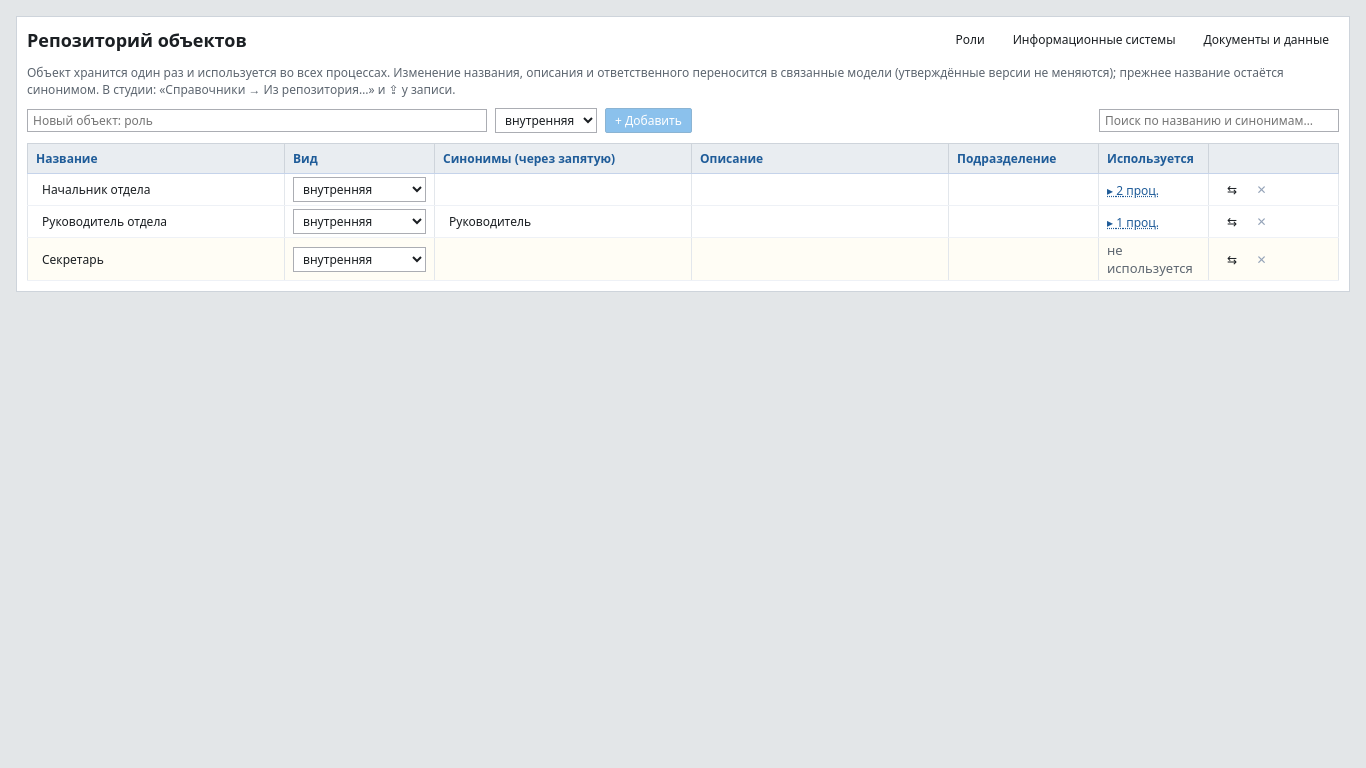
Test: репозиторий: слияние и удаление через диалог › слияние: окно со списком других объектов и пояснением, подтверждение недоступно без выбора
Check: the 1st field showing "Начальник отдела" is shown, box [36,178,276,201]
What coordinates should you click on to do the following:
click the 1st button titled "Объединить с другим объектом (дубли)"
I would click on:
 (1232, 190)
Its box is [1217,177,1247,202].
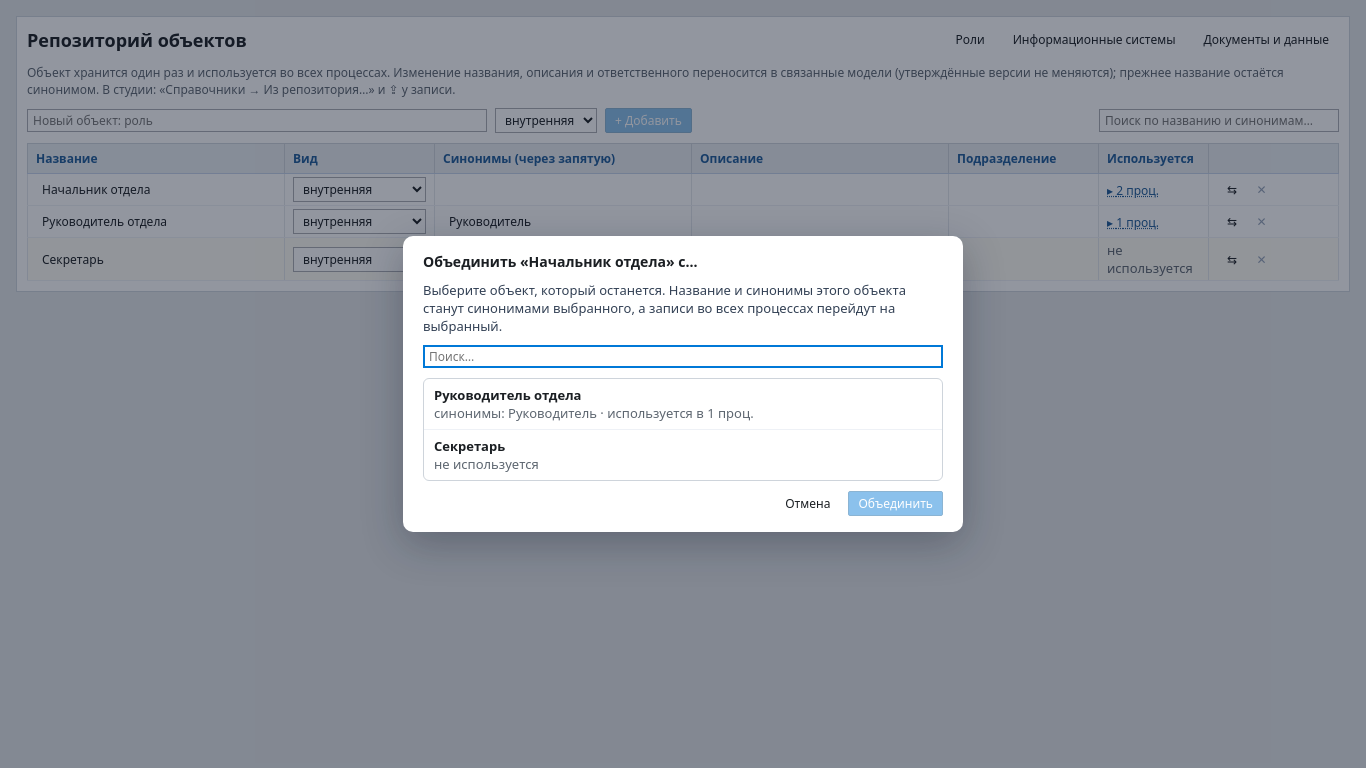
Check: the heading "Объединить «Начальник отдела» с…" is shown, box [423,252,697,271]
Check: the text "синонимы: Руководитель · используется в 1 проц." is shown, box [434,404,754,422]
Check: the button "Объединить" is disabled, box [848,491,943,516]
What coordinates should you click on to do the following:
click the text "Руководитель отдела"
I would click on:
 (508, 395)
Its box is [434,386,581,404].
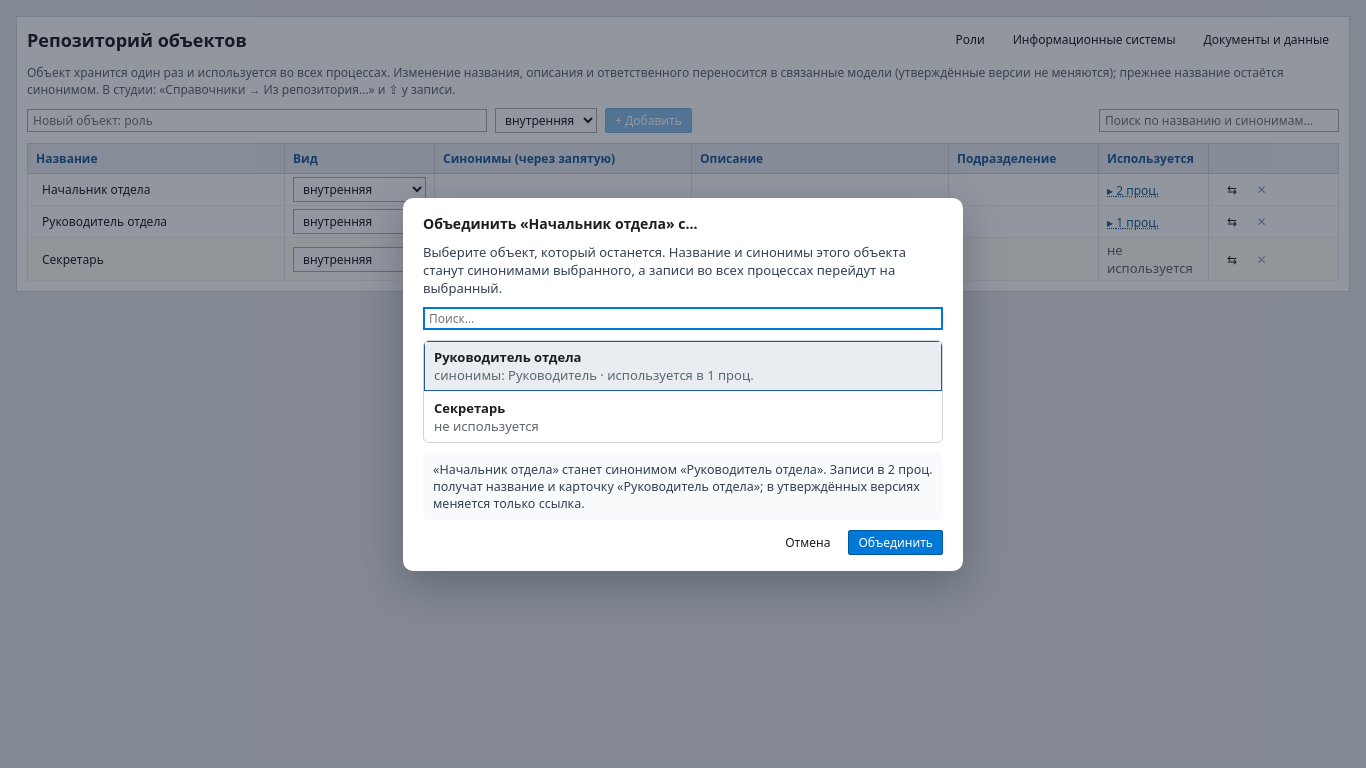
Check: the button "Объединить" is enabled, box [848,530,943,554]
Check: the text "станет синонимом" shows "«Начальник отдела» станет синонимом «Руководитель отдела». Записи в 2 проц.", box [423,452,943,520]
